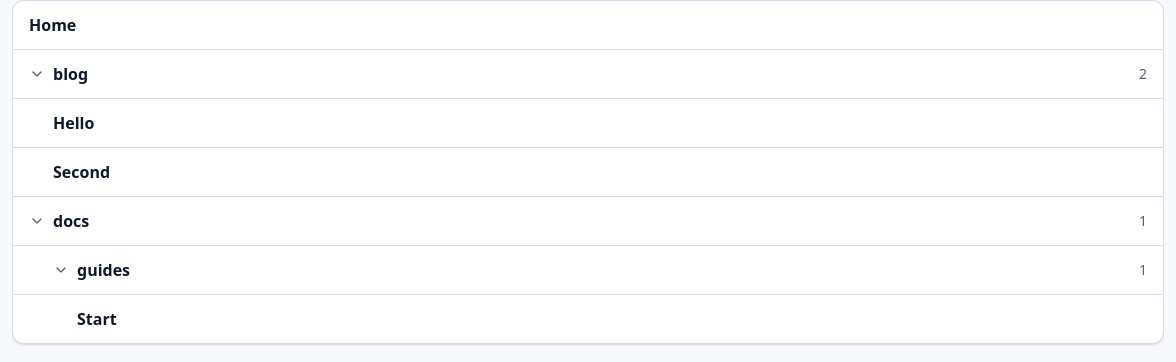
it: PageListView: folders › closes and opens a folder, and says so
Click the button "blog 2". click: {"x": 71, "y": 74}
box: [13,50,1163,98]
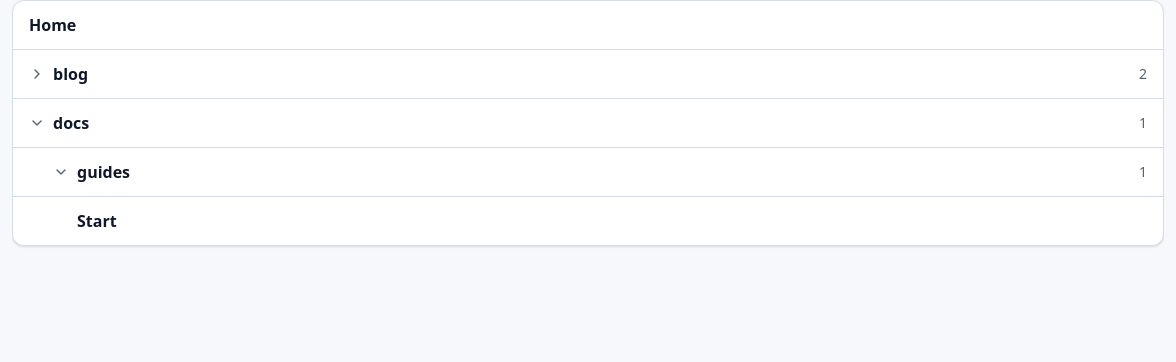
Check: the link "Start" is shown, box [77,210,117,232]
Check: the button "blog 2" is collapsed
Check: the link "Hello" is gone
Click the button "blog 2". click: {"x": 71, "y": 74}
box: [13,50,1163,98]
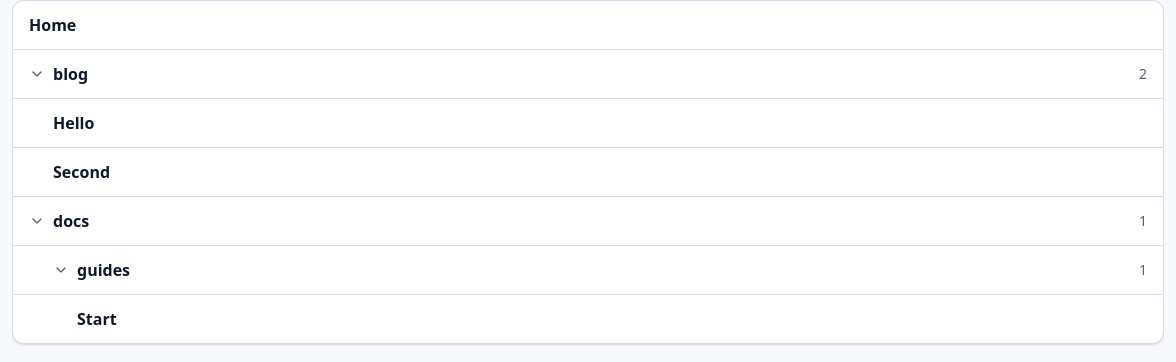
Check: the button "blog 2" is expanded, box [13,50,1163,98]
Check: the link "Hello" is shown, box [53,112,94,134]
